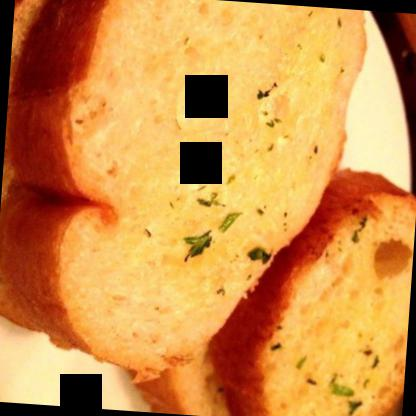toast bread: (0, 0, 367, 386), (201, 162, 415, 415)
